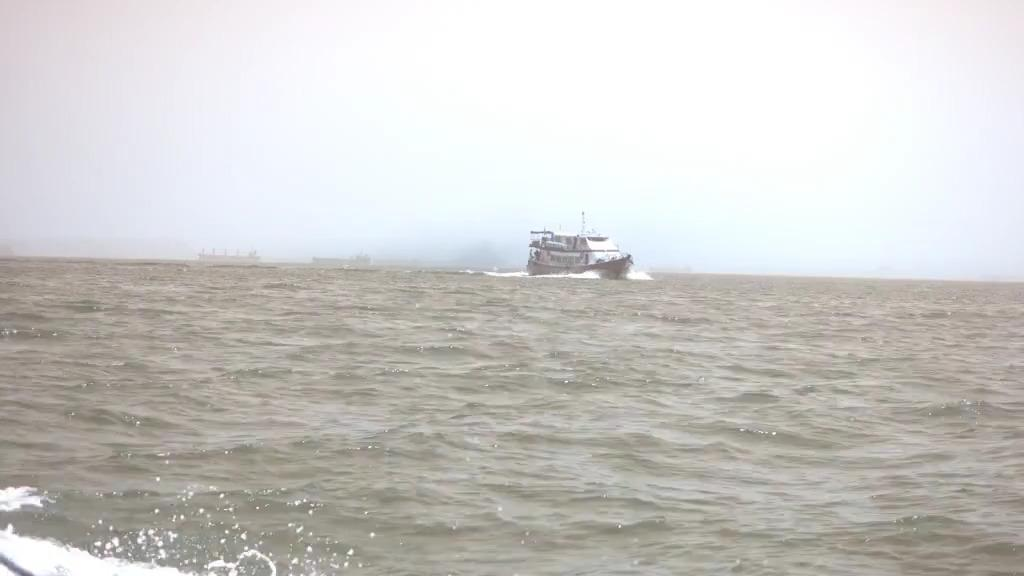PassengerShip: (522, 207, 638, 281)
